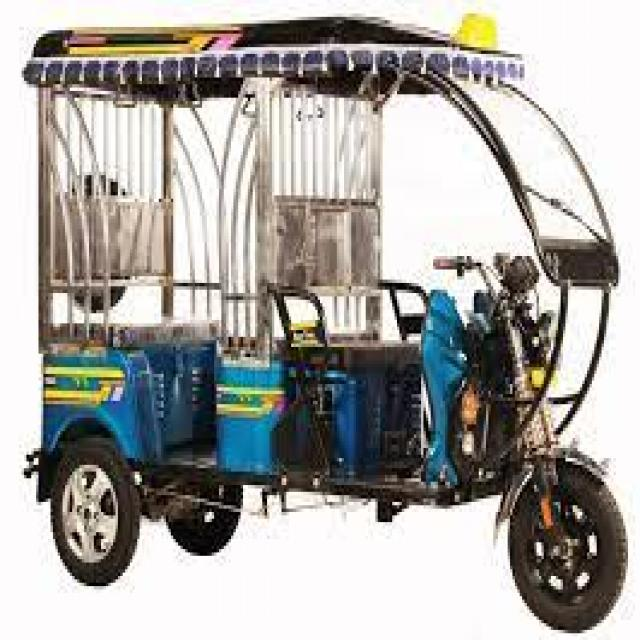Toto: (26, 18, 640, 637)
